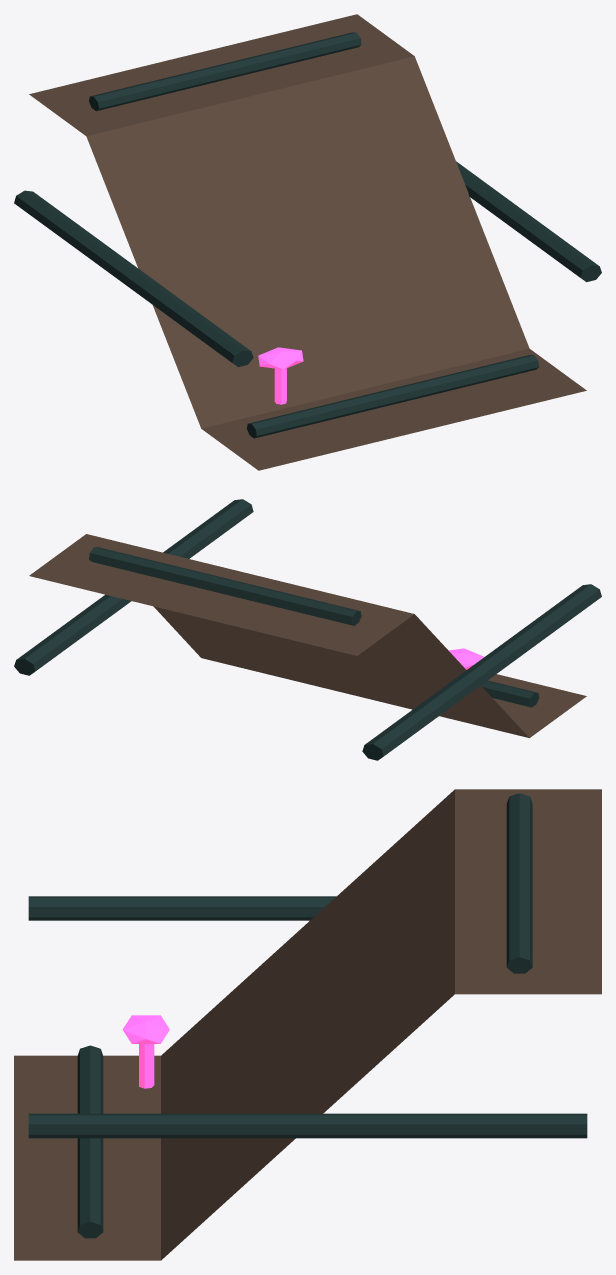
The model's file is df_v2_root_mud_ramp_wide_a.glb.
3 views of the same model, one above another, from view 1: azimuth 30°, elevation 25°; view 2: azimuth 150°, elevation 25°; view 3: azimuth 270°, elevation 25° (orthographic). The views are drawn at different scales.
Parts seen in each view (by area): view 1: mud_root_carved_ramp, left_root_lip, cross_root_bottom, cross_root_top, right_root_lip, ramp_glow_cap; view 2: mud_root_carved_ramp, left_root_lip, cross_root_top, right_root_lip, cross_root_bottom, ramp_glow_cap; view 3: mud_root_carved_ramp, right_root_lip, left_root_lip, cross_root_top, cross_root_bottom, ramp_glow_cap, ramp_glow_stem.
Part boxes in pixels (bbox=[...]): mud_root_carved_ramp: bbox=[29, 14, 586, 470]; left_root_lip: bbox=[14, 190, 253, 367]; cross_root_bottom: bbox=[247, 354, 539, 438]; cross_root_top: bbox=[89, 32, 361, 111]; right_root_lip: bbox=[456, 161, 601, 282]; ramp_glow_cap: bbox=[258, 347, 303, 369]; mud_root_carved_ramp: bbox=[29, 534, 586, 737]; left_root_lip: bbox=[362, 584, 601, 760]; cross_root_top: bbox=[89, 547, 361, 625]; right_root_lip: bbox=[14, 499, 253, 675]; cross_root_bottom: bbox=[481, 680, 539, 707]; ramp_glow_cap: bbox=[448, 648, 483, 669]; mud_root_carved_ramp: bbox=[14, 789, 601, 1260]; right_root_lip: bbox=[28, 1113, 587, 1138]; left_root_lip: bbox=[28, 896, 336, 920]; cross_root_top: bbox=[506, 793, 532, 973]; cross_root_bottom: bbox=[77, 1045, 103, 1238]; ramp_glow_cap: bbox=[122, 1015, 169, 1043]; ramp_glow_stem: bbox=[139, 1044, 154, 1088].
Size of the model in its own units: 1.86 by 1.06 by 2.
